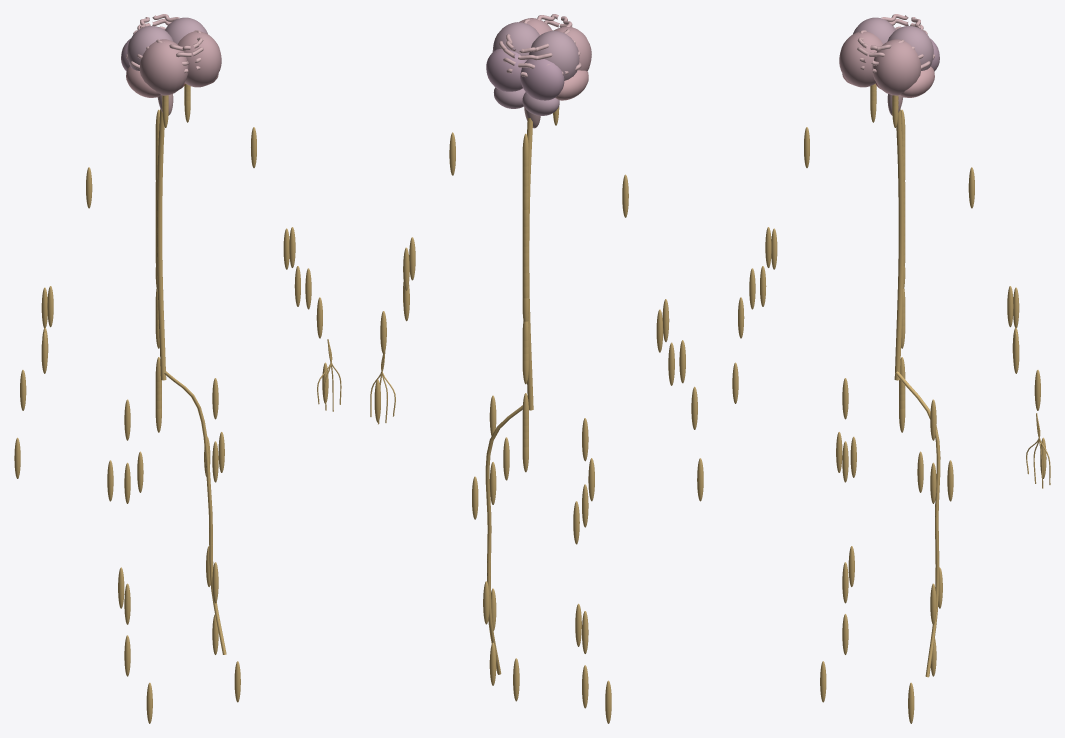
The model's file is nervous-system.glb.
3 views of the same model, side by side, from view 1: azimuth 30°, elevation 25°; view 2: azimuth 150°, elevation 25°; view 3: azimuth 330°, elevation 25° (orthographic). The views are drawn at different scales.
Parts seen in each view (by area): view 1: frontal-lobe-246, frontal-lobe-263, brainstem-306, leg-nerves-314, parietal-lobe-247, parietal-lobe-264, temporal-lobe-248; view 2: occipital-lobe-249, parietal-lobe-247, occipital-lobe-266, leg-nerves-314, parietal-lobe-264, brainstem-306, frontal-lobe-246, temporal-lobe-248, cerebellum-250; view 3: frontal-lobe-263, frontal-lobe-246, brainstem-306, leg-nerves-314, parietal-lobe-264, parietal-lobe-247, temporal-lobe-265.
Part boxes in pixels (<box>): frontal-lobe-246: <box>139,39,188,95</box>; frontal-lobe-263: <box>177,31,221,87</box>; brainstem-306: <box>157,109,166,380</box>; leg-nerves-314: <box>164,371,226,654</box>; parietal-lobe-247: <box>127,26,173,70</box>; parietal-lobe-264: <box>165,17,207,44</box>; temporal-lobe-248: <box>126,66,161,97</box>; occipital-lobe-249: <box>520,59,564,100</box>; parietal-lobe-247: <box>529,30,579,80</box>; occipital-lobe-266: <box>486,49,526,91</box>; leg-nerves-314: <box>485,405,522,674</box>; parietal-lobe-264: <box>492,22,539,59</box>; brainstem-306: <box>527,117,533,410</box>; frontal-lobe-246: <box>554,26,591,71</box>; temporal-lobe-248: <box>555,70,588,100</box>; cerebellum-250: <box>522,92,559,115</box>; frontal-lobe-263: <box>872,39,921,95</box>; frontal-lobe-246: <box>839,31,883,87</box>; brainstem-306: <box>894,109,903,380</box>; leg-nerves-314: <box>895,371,940,677</box>; parietal-lobe-264: <box>887,26,933,70</box>; parietal-lobe-247: <box>853,17,895,44</box>; temporal-lobe-265: <box>899,66,934,97</box>.
Bounding box in the file's own units: 2.93 × 5.83 × 0.72.
